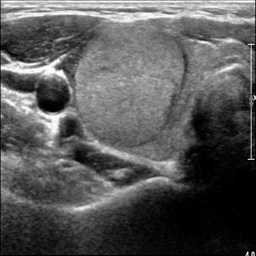mass: (75, 28, 187, 140)
